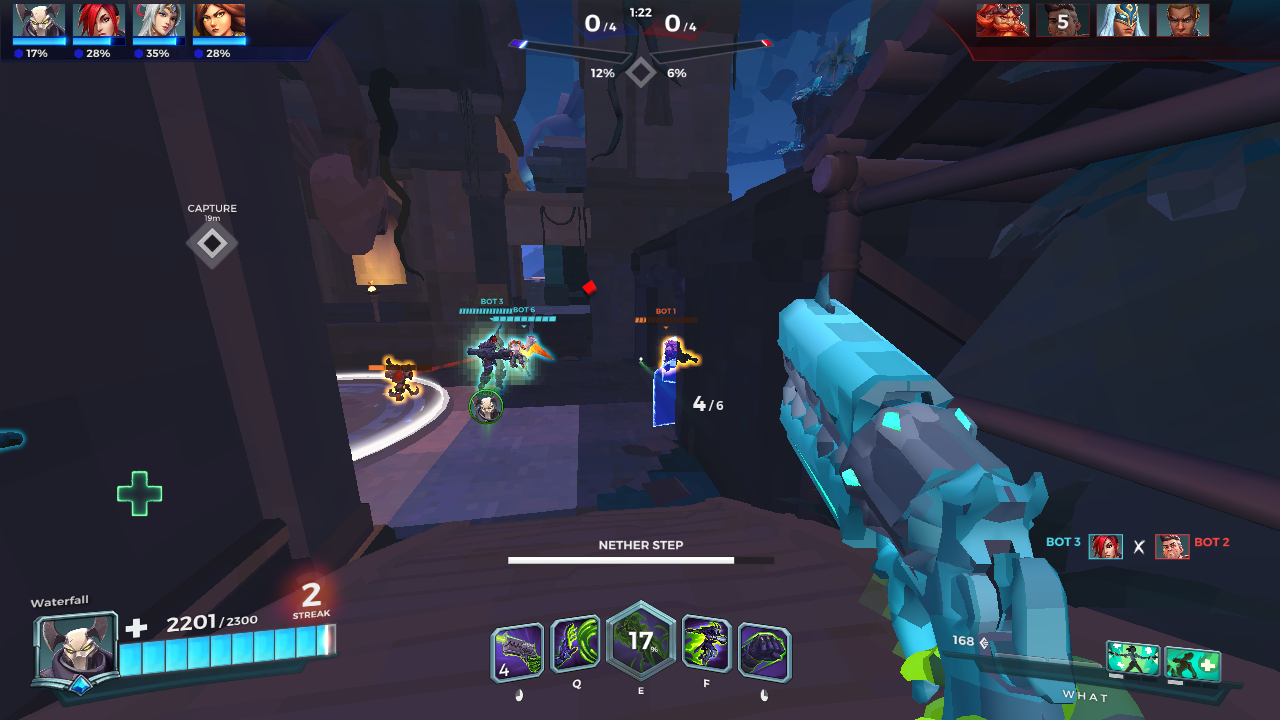model: (653, 333, 701, 374)
